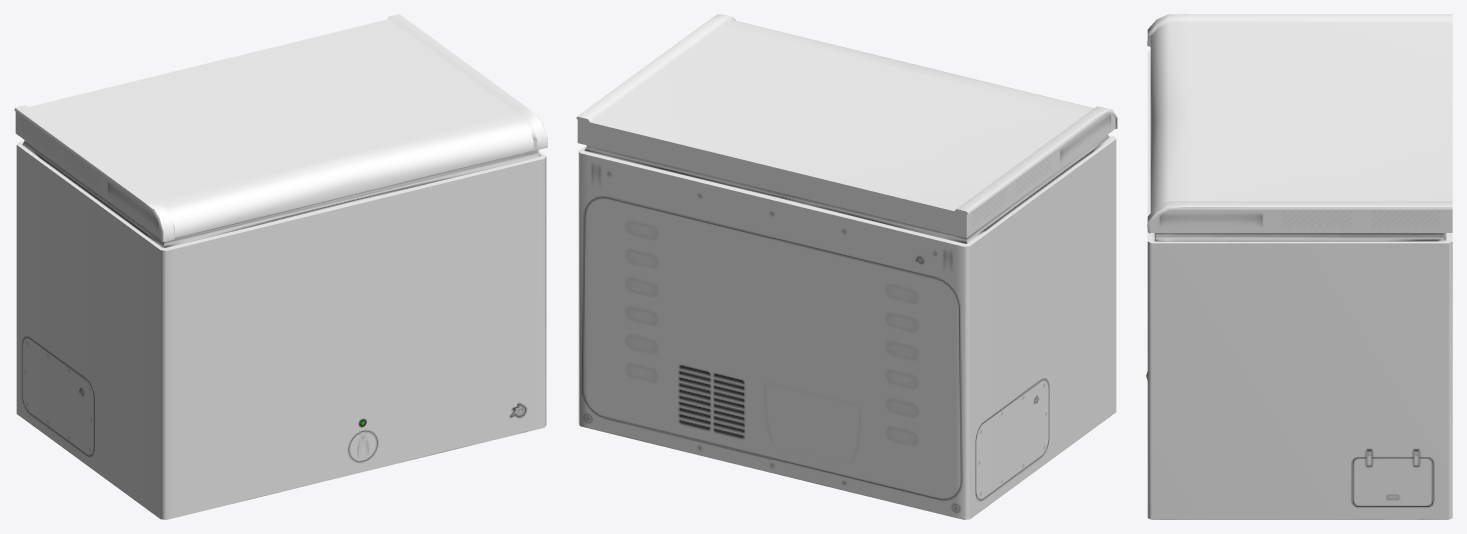
Rendered from mk_ice_freezer.glb.
3 renders of one model, left to right at view 1: azimuth 30°, elevation 25°; view 2: azimuth 150°, elevation 25°; view 3: azimuth 270°, elevation 25°, orthographic. The views are drawn at different scales.
Parts seen in each view (by area): view 1: mesh; view 2: mesh; view 3: mesh.
Boxes of the visible parts, x1,y1,x2,y2 form: mesh: [14, 14, 547, 519]; mesh: [576, 14, 1117, 519]; mesh: [1146, 14, 1452, 519].
Bounding box in the file's own units: 1.17 × 0.88 × 0.781.
1 material, 1 textured.
